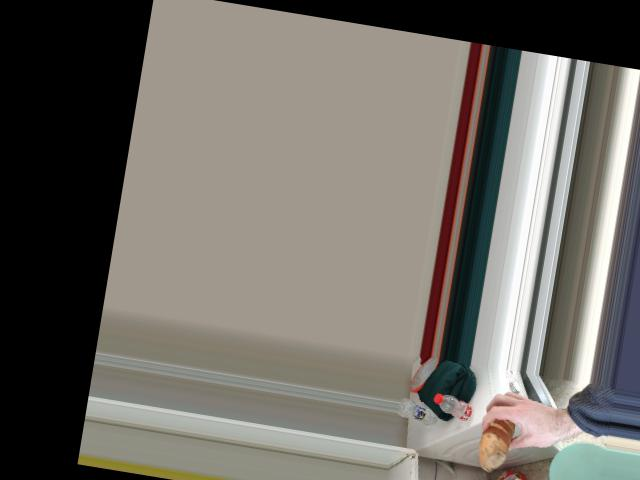sweet_potato: (483, 403, 533, 460)
